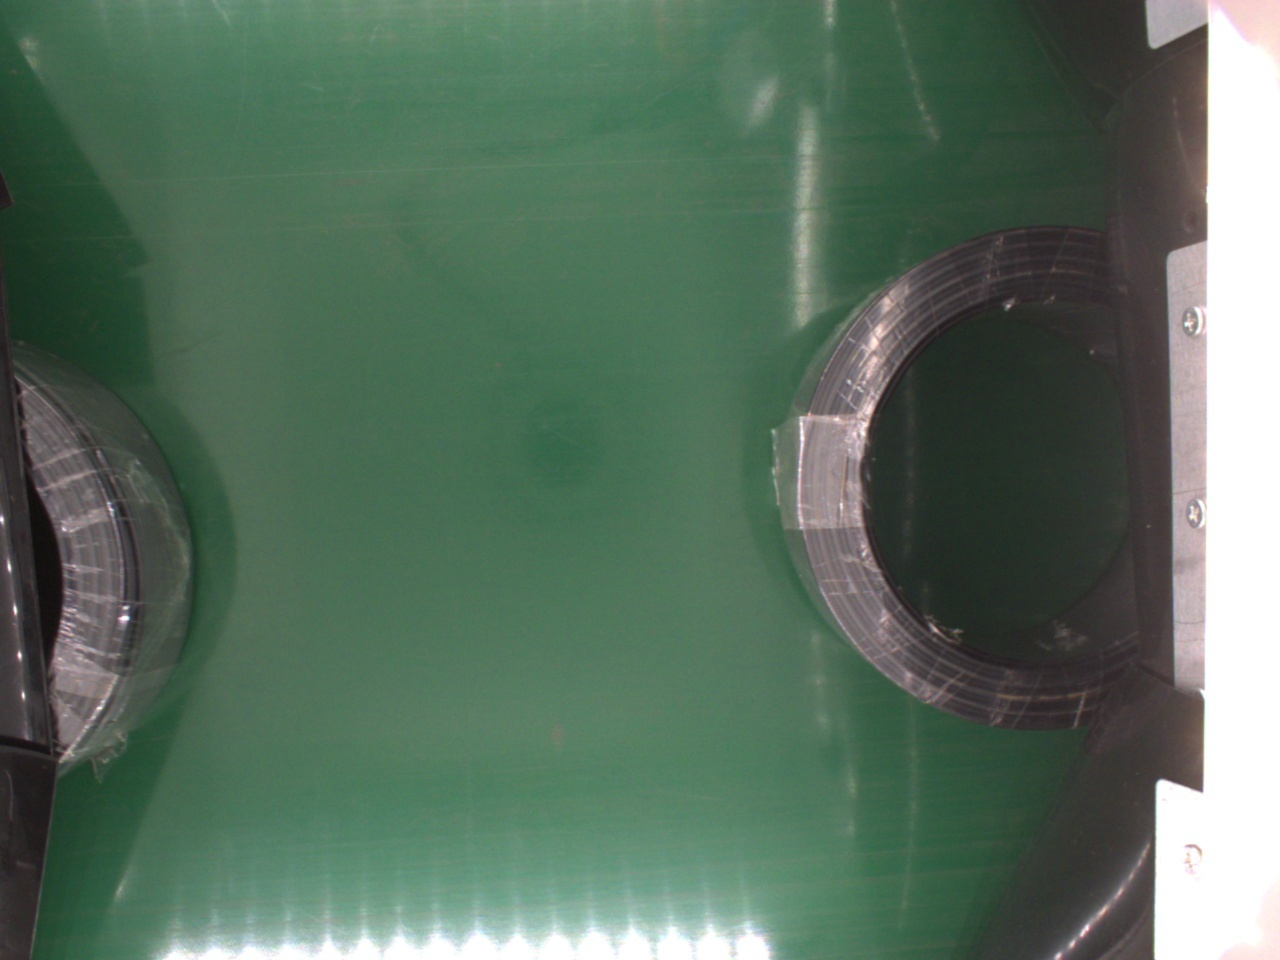black: (768, 222, 1146, 724), (18, 353, 195, 771)
